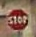stop: (6, 7, 29, 30)
